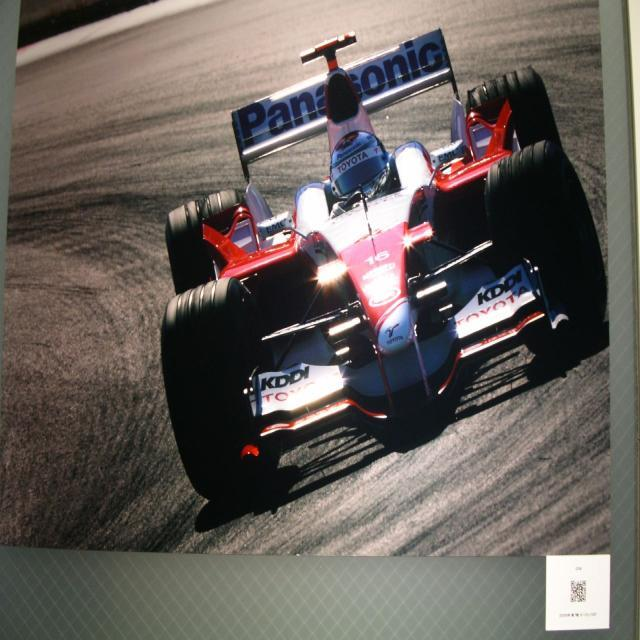qr-code: (570, 580, 586, 602)
